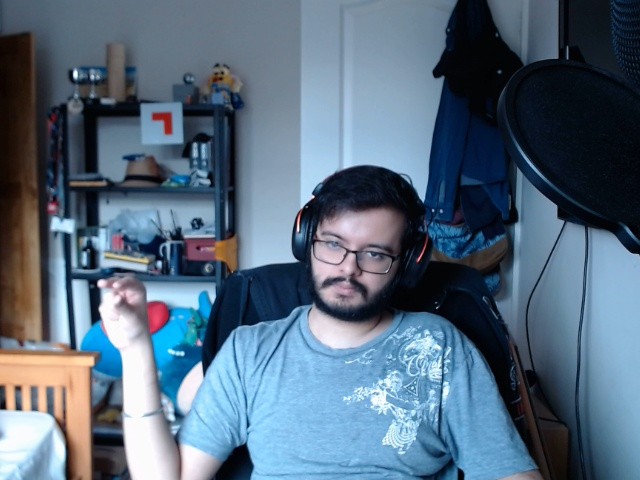No: (83, 264, 163, 375)
